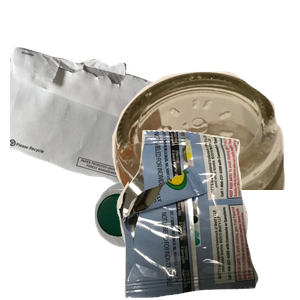glass: (89, 69, 300, 249)
paper: (10, 45, 250, 225)
plastic: (92, 176, 257, 300)
trash: (114, 130, 300, 300)
